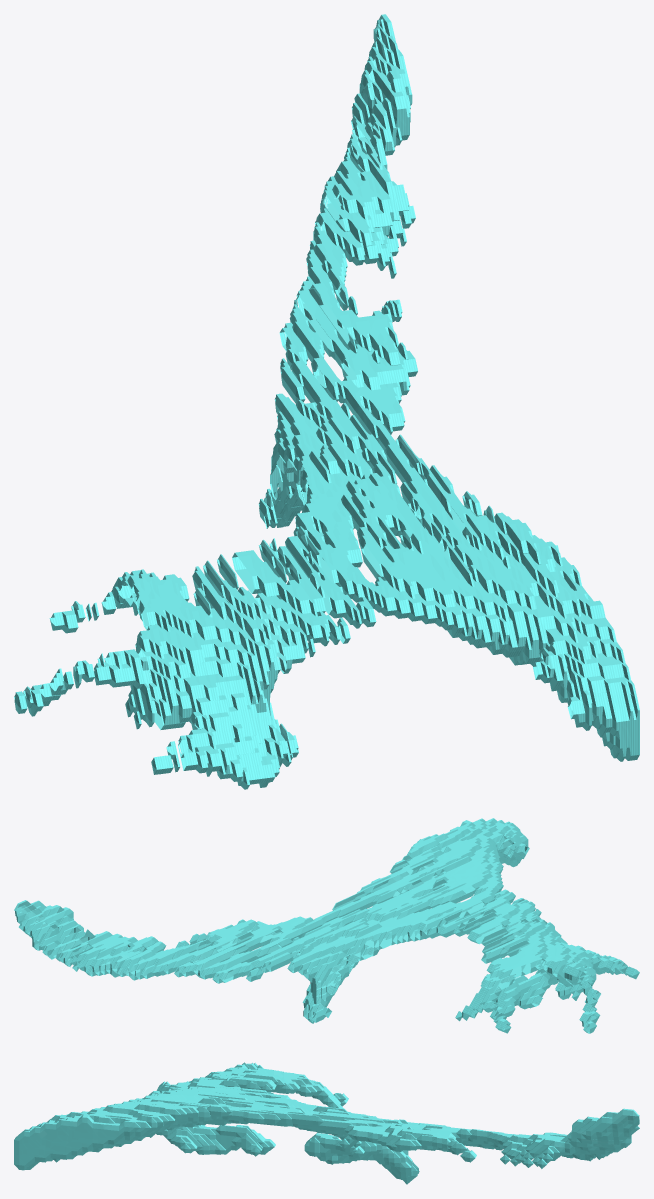
The model's file is SVV_BWM-VR01.gltf.
3 views of the same model, one above another, from view 1: azimuth 30°, elevation 25°; view 2: azimuth 150°, elevation 25°; view 3: azimuth 270°, elevation 25° (orthographic). The views are drawn at different scales.
Visible parts, largest first — view 1: BWM-VR01; view 2: BWM-VR01; view 3: BWM-VR01.
Part boxes in pixels (left/top/right/bottom): BWM-VR01: left=14, top=14, right=639, bottom=789; BWM-VR01: left=14, top=818, right=639, bottom=1033; BWM-VR01: left=14, top=1062, right=639, bottom=1184.
Bounding box in the file's own units: 53590 × 24403 × 76498.
